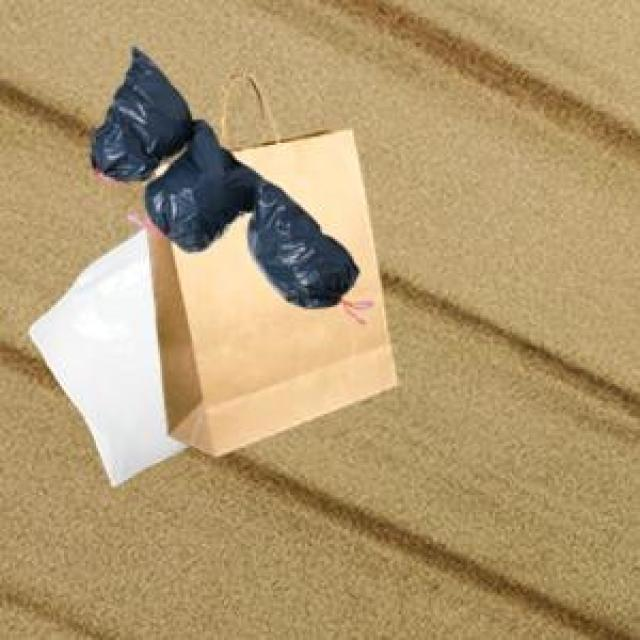miscellaneous trash: (88, 43, 354, 303)
paper: (139, 70, 393, 452)
